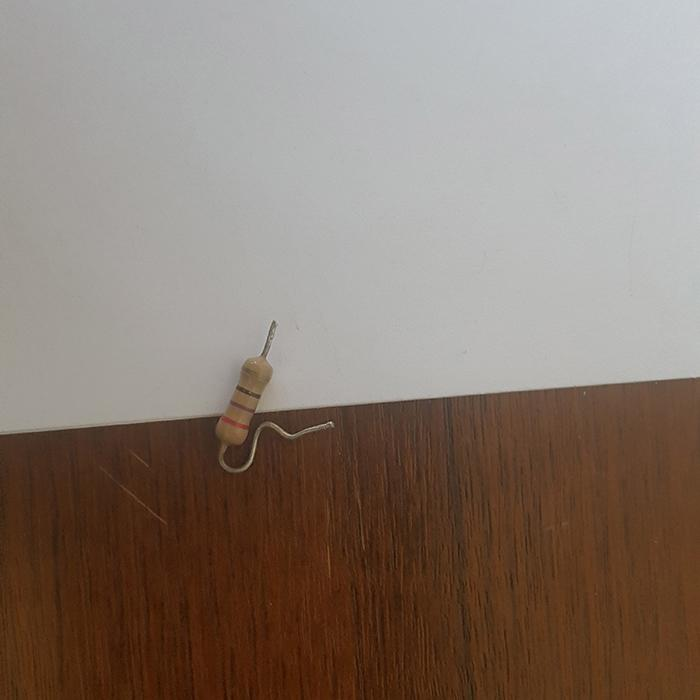resistor: (214, 358, 273, 448)
